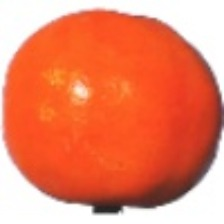tangerine: (46, 36, 200, 208)
